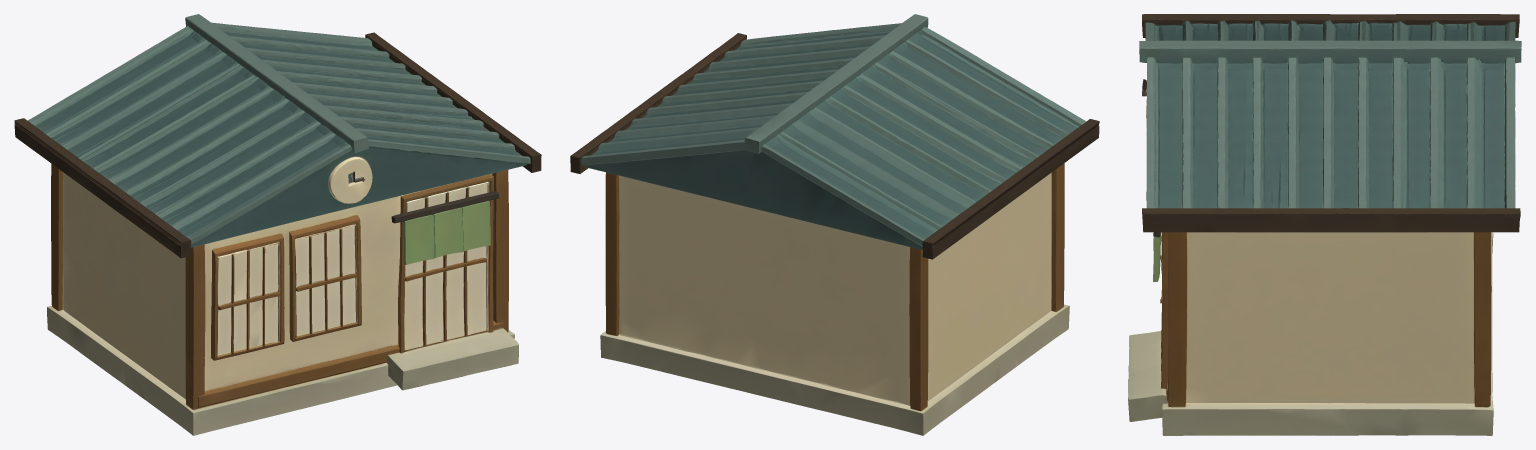
3 renders of one model, left to right at view 1: azimuth 30°, elevation 25°; view 2: azimuth 150°, elevation 25°; view 3: azimuth 270°, elevation 25°, orthographic. The views are drawn at different scales.
Parts seen in each view (by area): view 1: model; view 2: model; view 3: model.
Boxes of the visible parts, x1,y1,x2,y2 form: model: (14, 14, 541, 435); model: (570, 14, 1099, 435); model: (1128, 14, 1521, 435).
Size of the model in its own units: 1.89 by 1.33 by 1.58.
Materials: 1 (1 with a texture image).
